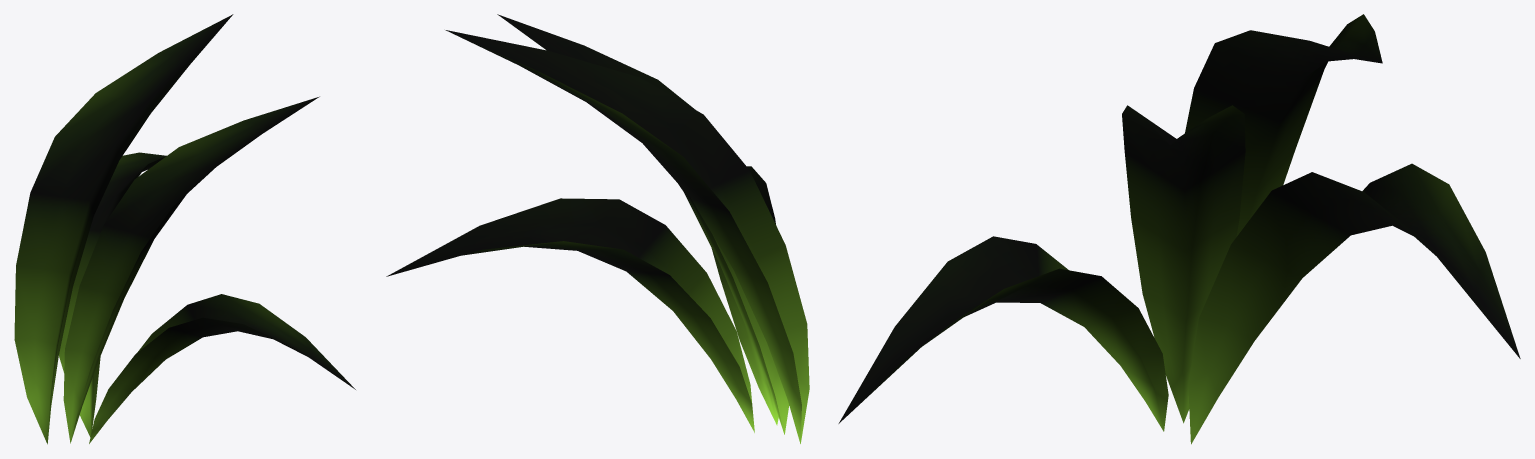
Rendered from SM_GrassOverhead_High1.fbx.
3 renders of one model, left to right at view 1: azimuth 30°, elevation 25°; view 2: azimuth 150°, elevation 25°; view 3: azimuth 270°, elevation 25°, orthographic. The views are drawn at different scales.
Parts seen in each view (by area): view 1: Plane.007; view 2: Plane.007; view 3: Plane.007.
Boxes of the visible parts, box(x1,y1,x2,y2) form: Plane.007: box(14, 14, 355, 444); Plane.007: box(386, 14, 809, 443); Plane.007: box(838, 14, 1520, 444).
Bounding box in the file's own units: 86.49 × 99.07 × 113.
